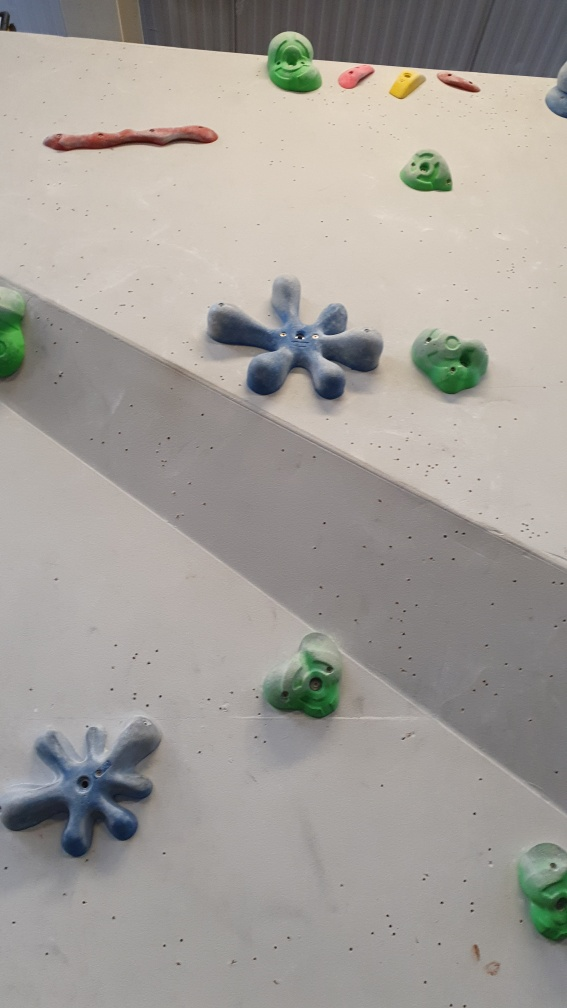Crimp: (333, 60, 377, 90), (436, 70, 483, 93)
Jug: (262, 630, 344, 720), (405, 322, 488, 396), (262, 25, 330, 99), (399, 148, 458, 194)
Octopus Pinch: (1, 715, 167, 865), (205, 274, 386, 403)
